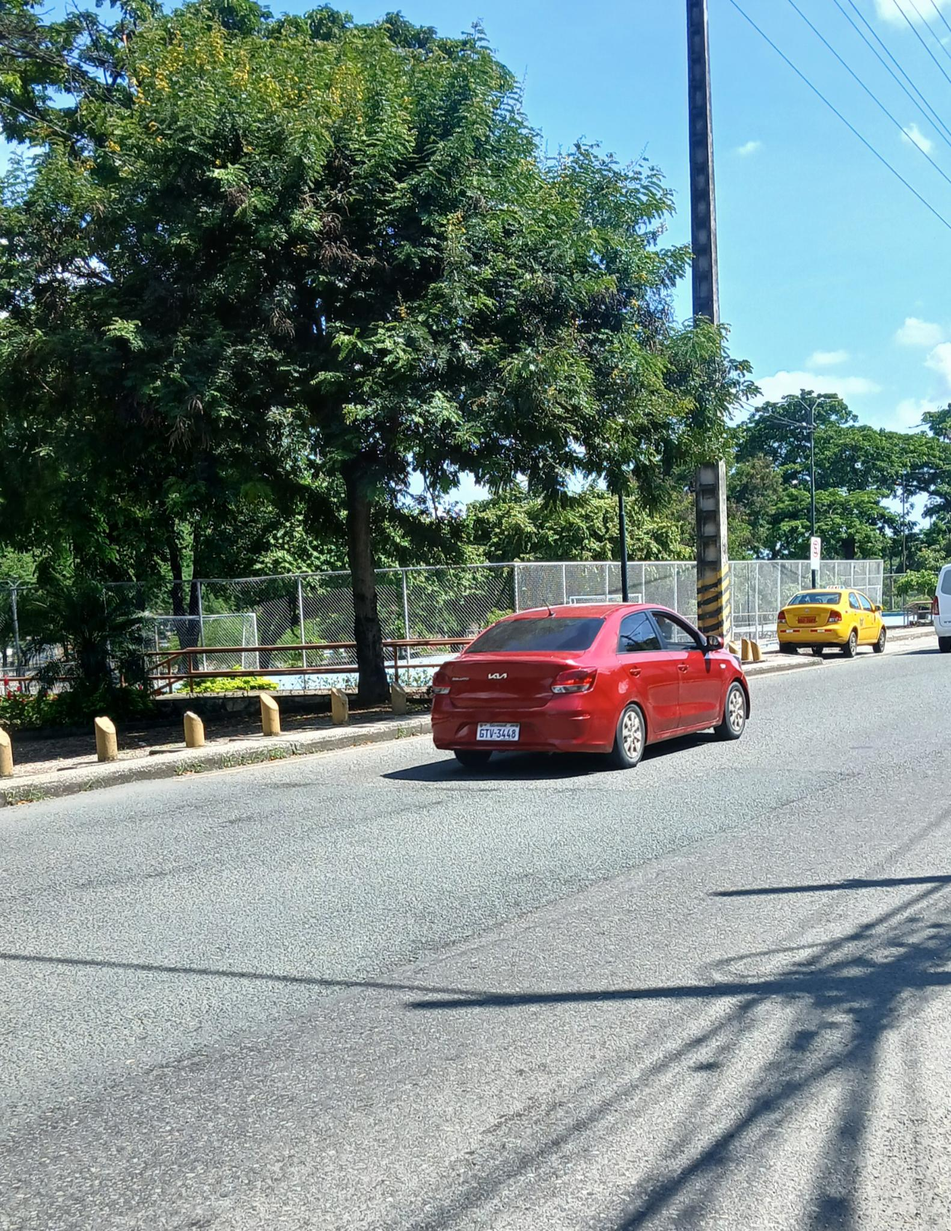license_plate: (476, 723, 521, 740), (797, 616, 817, 623)
